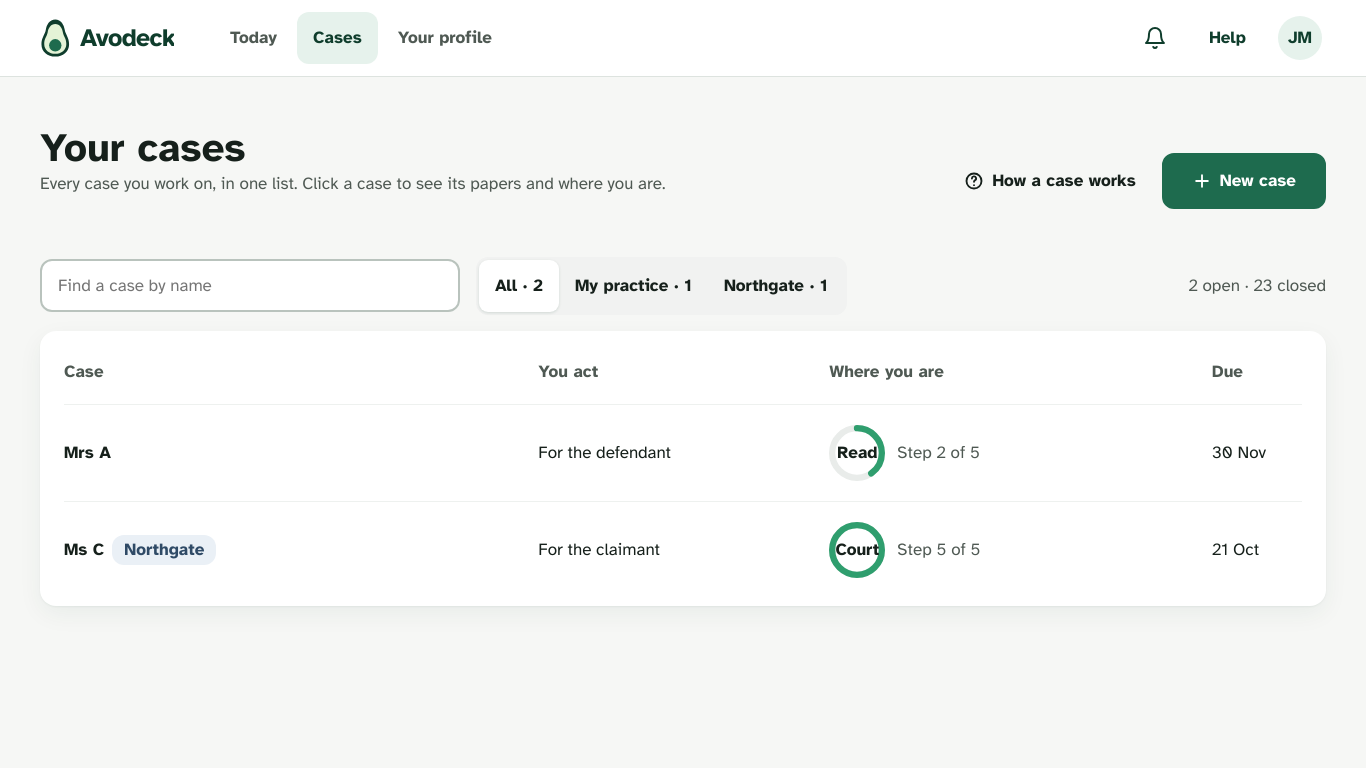
searching narrows the list by case name
The width and height of the screenshot is (1366, 768).
Check: the link "Mrs A For the defendant Read Step 2 of 5 30 Nov" is shown, box x1=64 y1=404 x2=1302 y2=501
Type "ms c" into the search field labelled "Find a case by name" at (250, 286), box x1=40 y1=259 x2=460 y2=312
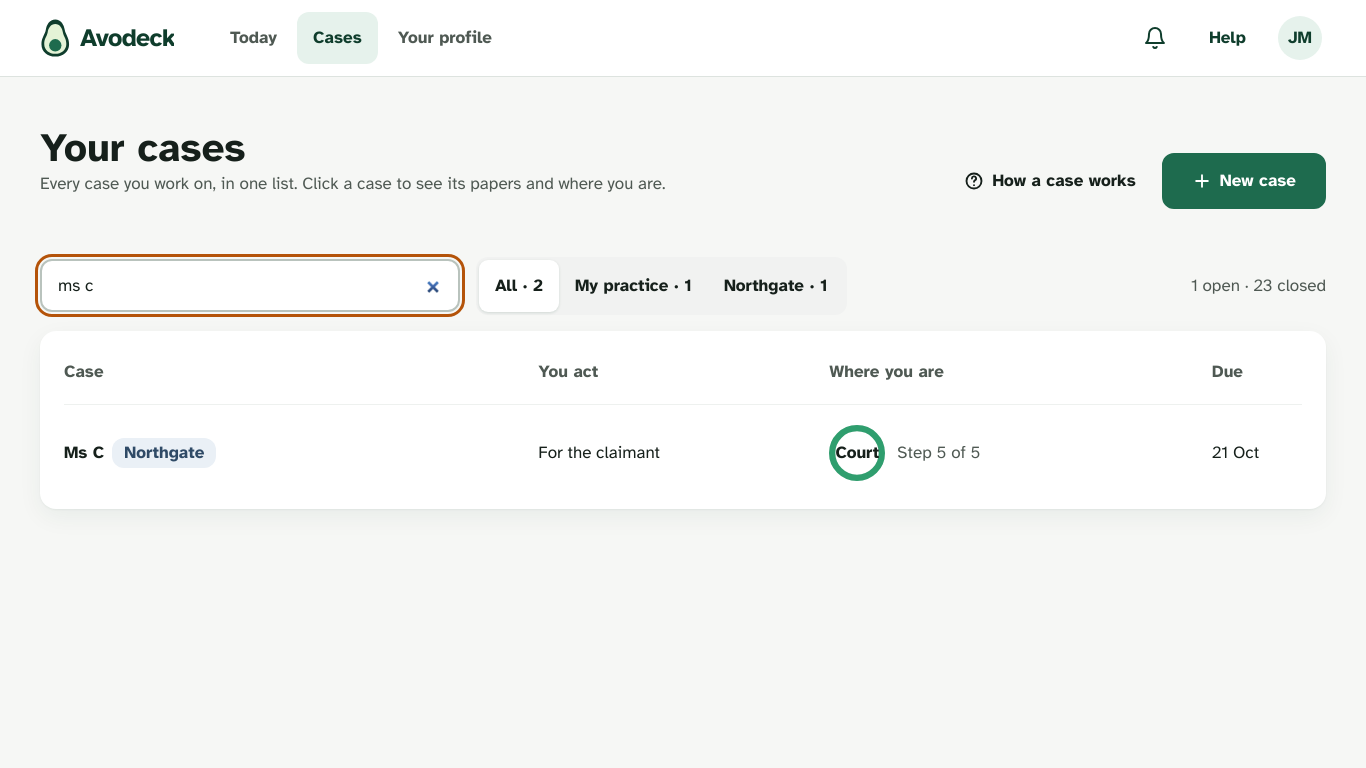
Check: the link "Ms C Northgate For the claimant Court Step 5 of 5 21 Oct" is shown, box x1=64 y1=404 x2=1302 y2=501
Check: the link "Mrs A" is gone
Replace the text in the search field with "zzz" at (250, 286), box x1=40 y1=259 x2=460 y2=312
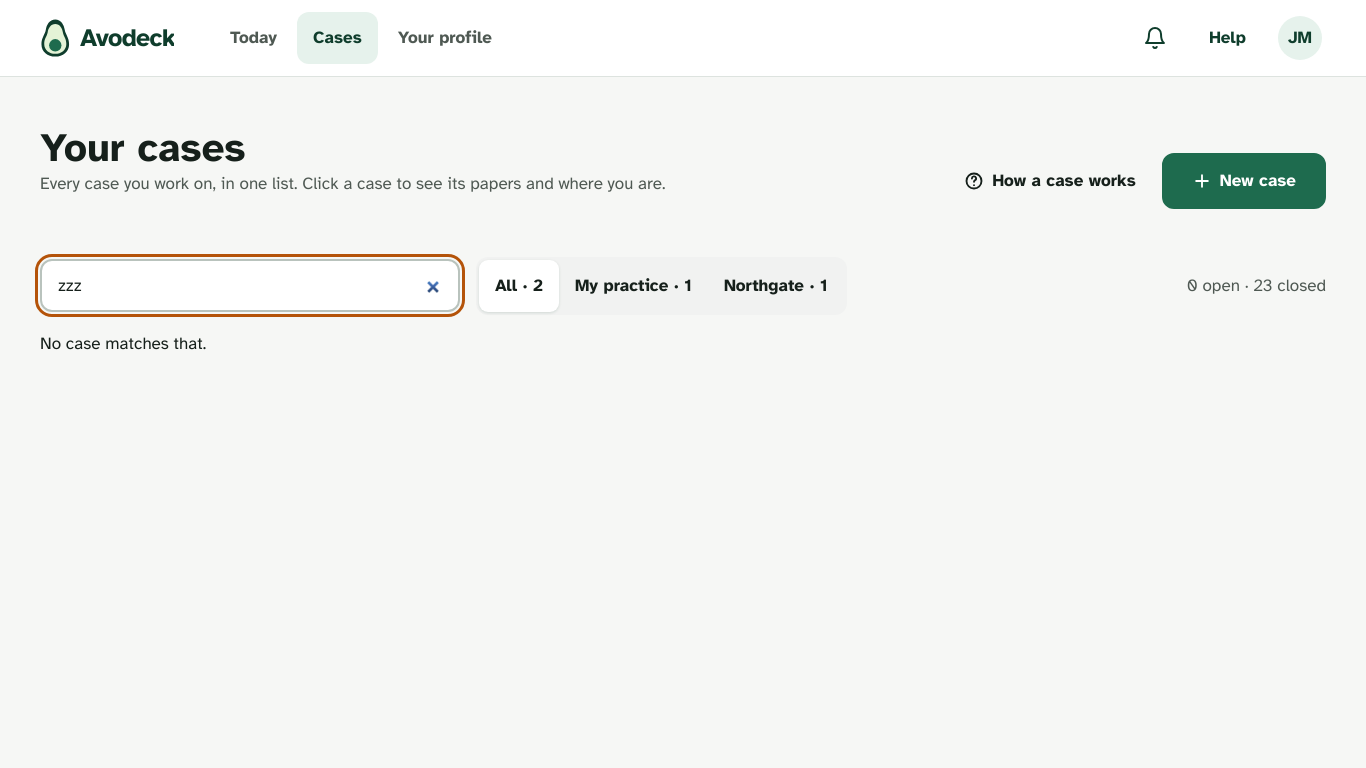
Check: the text "No case matches that." is shown, box x1=40 y1=332 x2=206 y2=354
